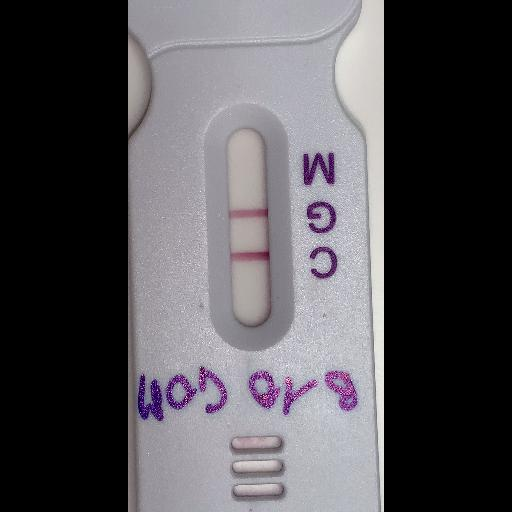Pos: (127, 0, 367, 511)
